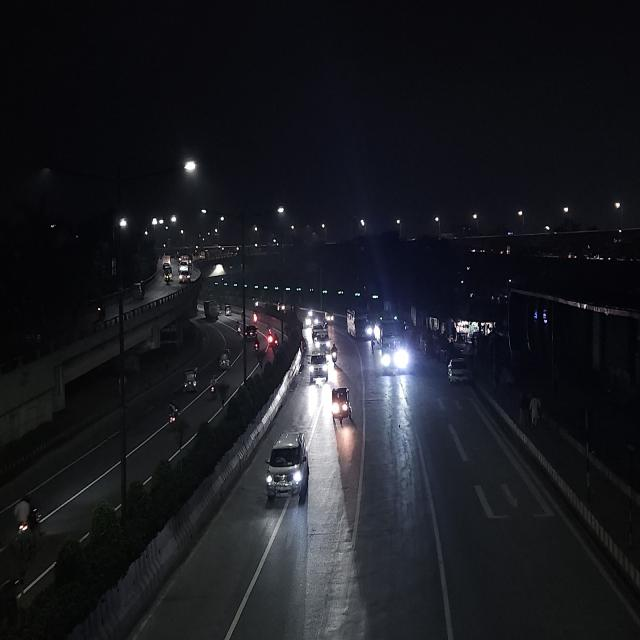bus: (377, 316, 409, 376), (345, 305, 371, 342)
car: (264, 426, 310, 506), (443, 354, 471, 387), (308, 350, 329, 385), (316, 331, 331, 352), (178, 268, 192, 284), (244, 323, 256, 340)
cng: (330, 382, 354, 424), (182, 364, 200, 392), (218, 348, 232, 372), (224, 303, 233, 318)
motorcycle: (13, 494, 43, 546), (165, 398, 182, 428), (330, 342, 340, 367), (208, 378, 218, 400), (94, 301, 106, 319), (267, 323, 273, 345), (164, 268, 172, 284), (265, 322, 272, 338), (235, 318, 242, 333)
pedestrian: (369, 336, 377, 358)
